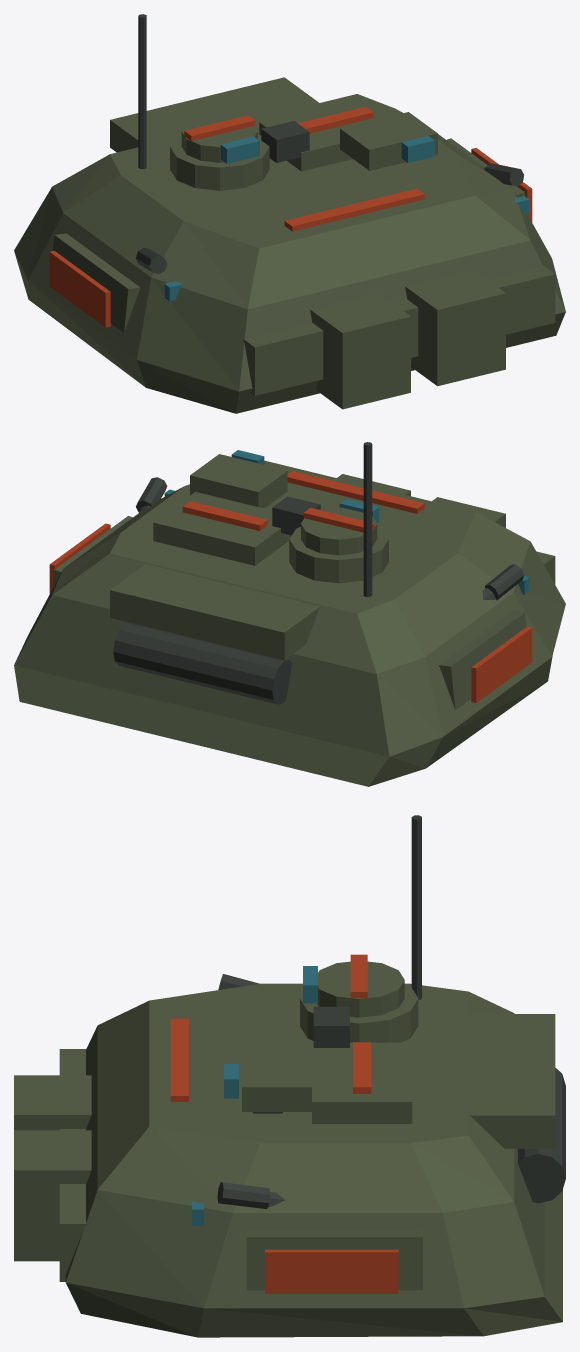
File: Bastion_HT77_Turret.obj
3 views of the same model, one above another, from view 1: azimuth 30°, elevation 25°; view 2: azimuth 150°, elevation 25°; view 3: azimuth 270°, elevation 25° (orthographic). The views are drawn at different scales.
Parts seen in each view (by area): view 1: Bastion_HT77_Turret; view 2: Bastion_HT77_Turret; view 3: Bastion_HT77_Turret.
Boxes of the visible parts, x1,y1,x2,y2 form: Bastion_HT77_Turret: (14,14,565,413); Bastion_HT77_Turret: (14,442,565,786); Bastion_HT77_Turret: (14,815,565,1337).
Size of the model in its own units: 3.87 by 2.45 by 3.63.
Materials: 1 (1 with a texture image).
